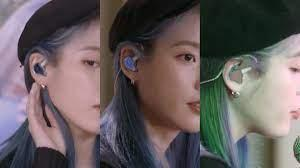earphone: (227, 68, 247, 85), (123, 57, 140, 71), (32, 63, 47, 76)
